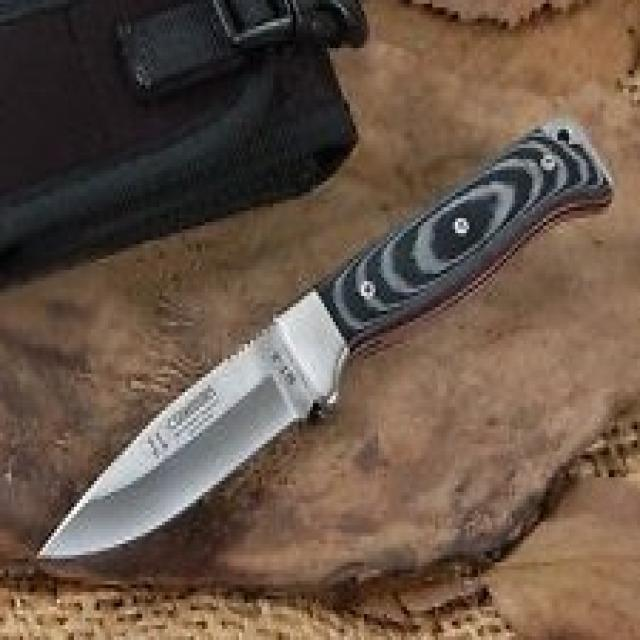knife: (23, 110, 624, 574)
